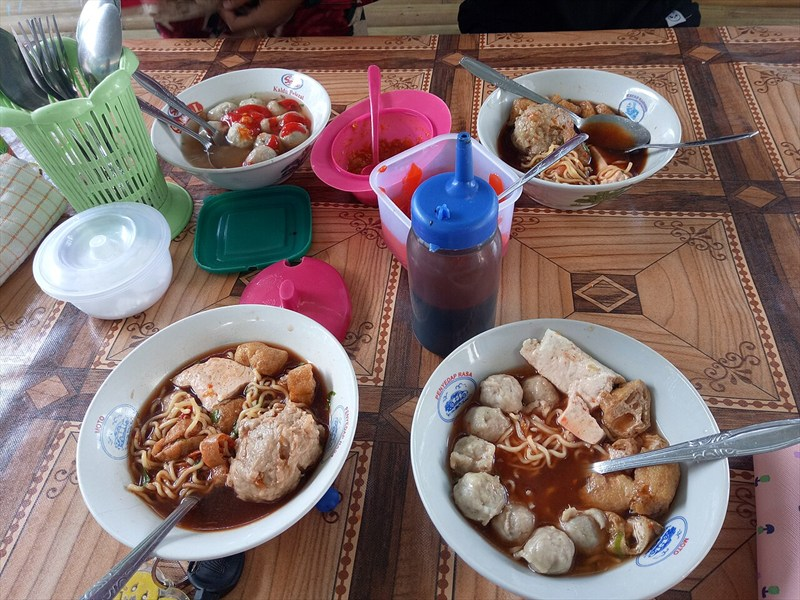Bakso: (52, 74, 678, 556)
